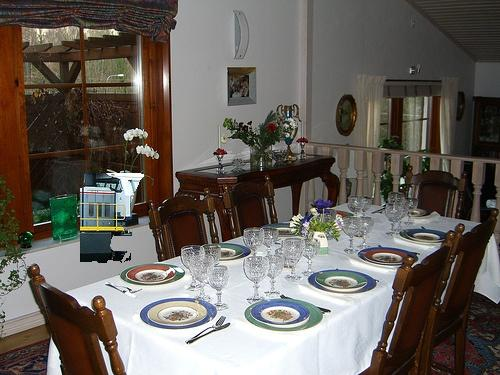tampered: (81, 173, 144, 263)
